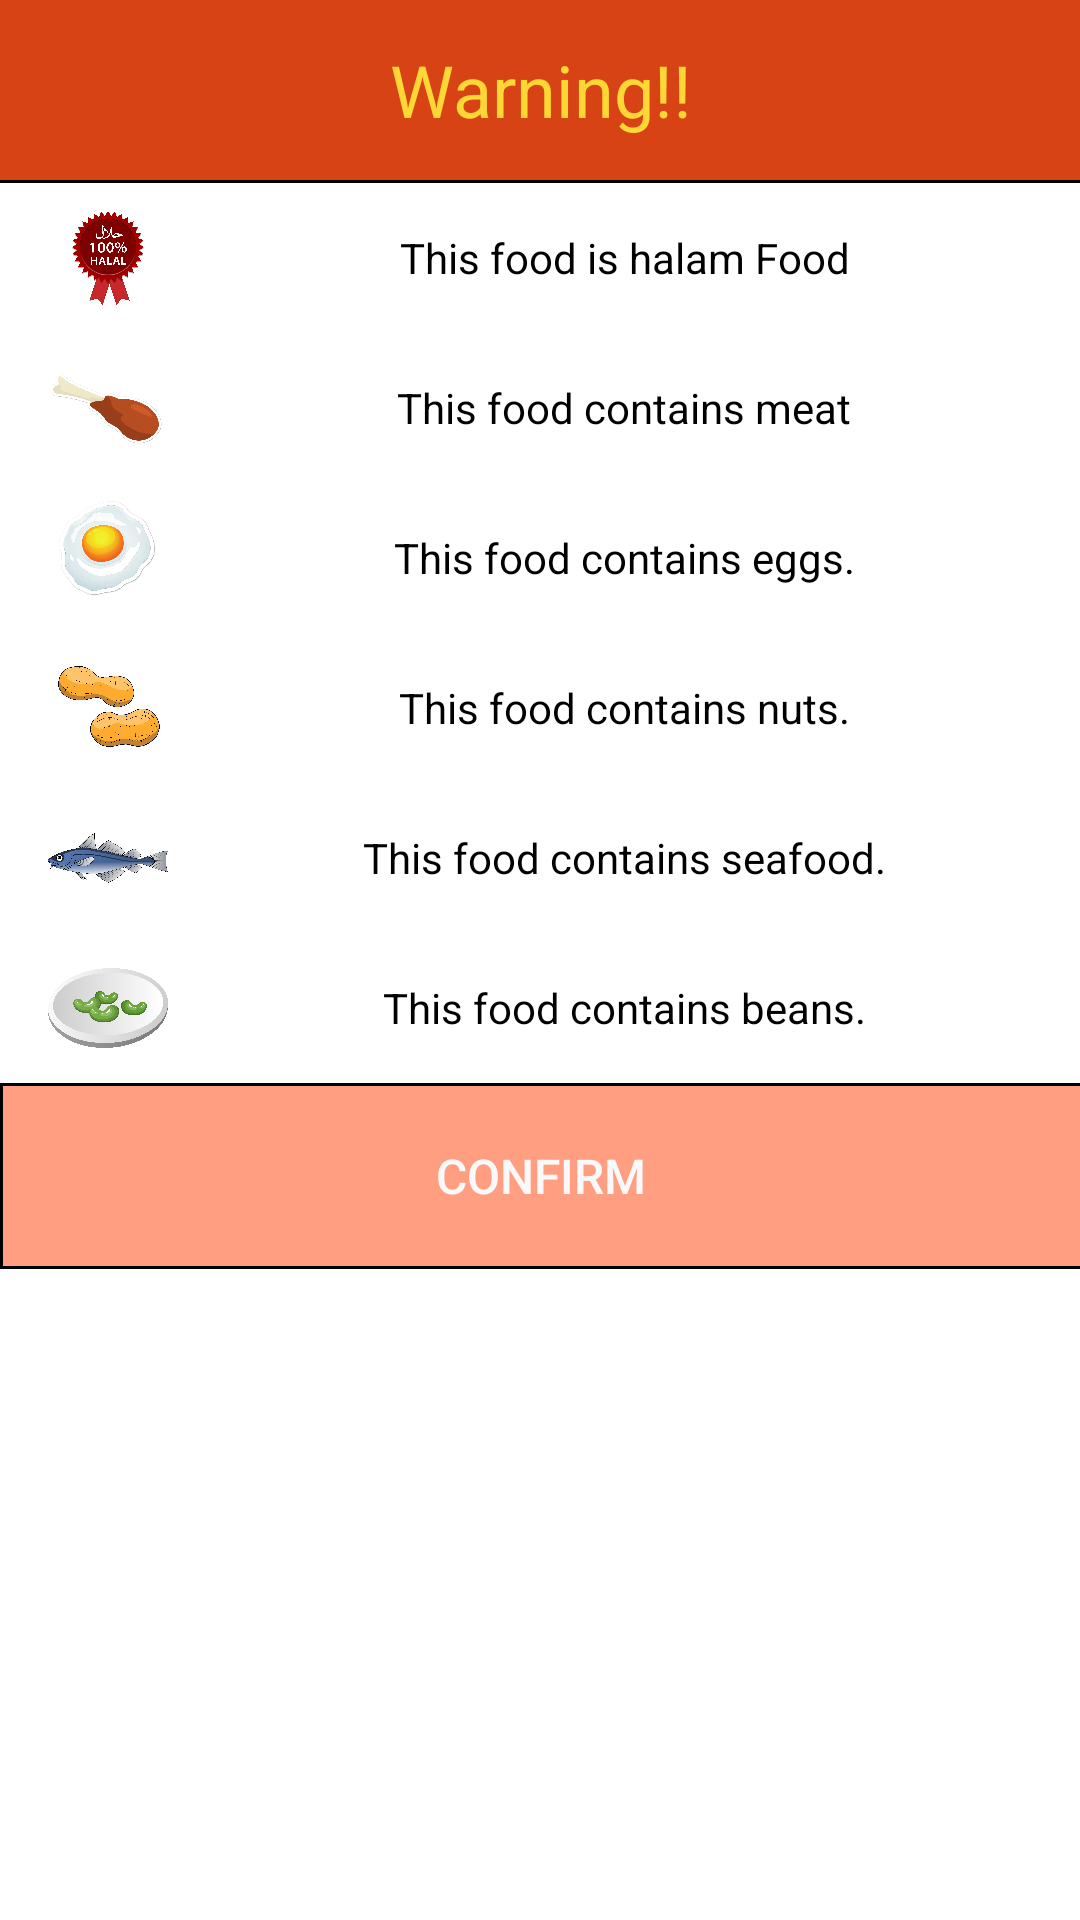

Locate icon controls on the screen. Image size 1080 x 1920, boxes as (x1, y1, x2, y2).
egg: (62, 504, 155, 595)
fish: (48, 833, 168, 883)
peanuts: (58, 666, 160, 747)
